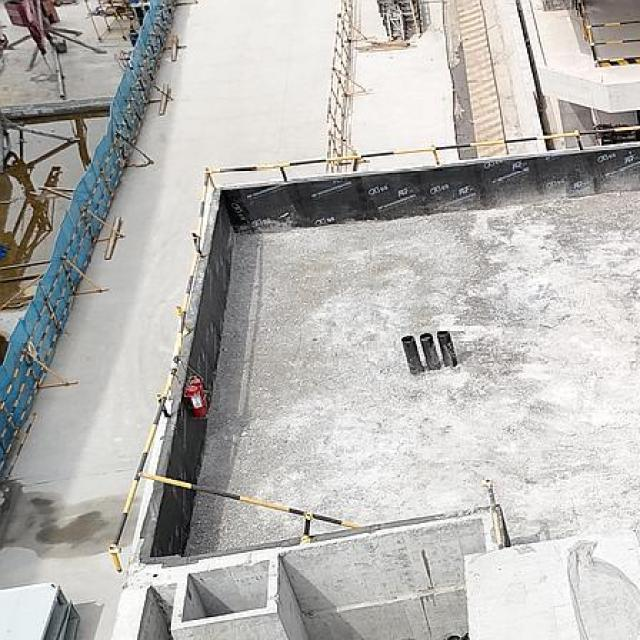edge_guardrail: (105, 123, 640, 575), (136, 470, 366, 540), (574, 0, 640, 63)
